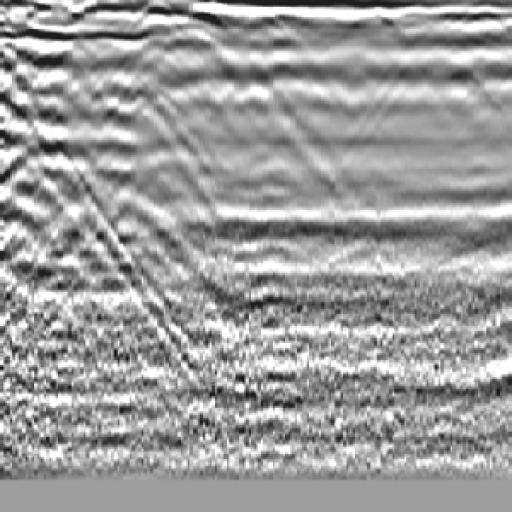non-metallic: (100, 21, 286, 240)
